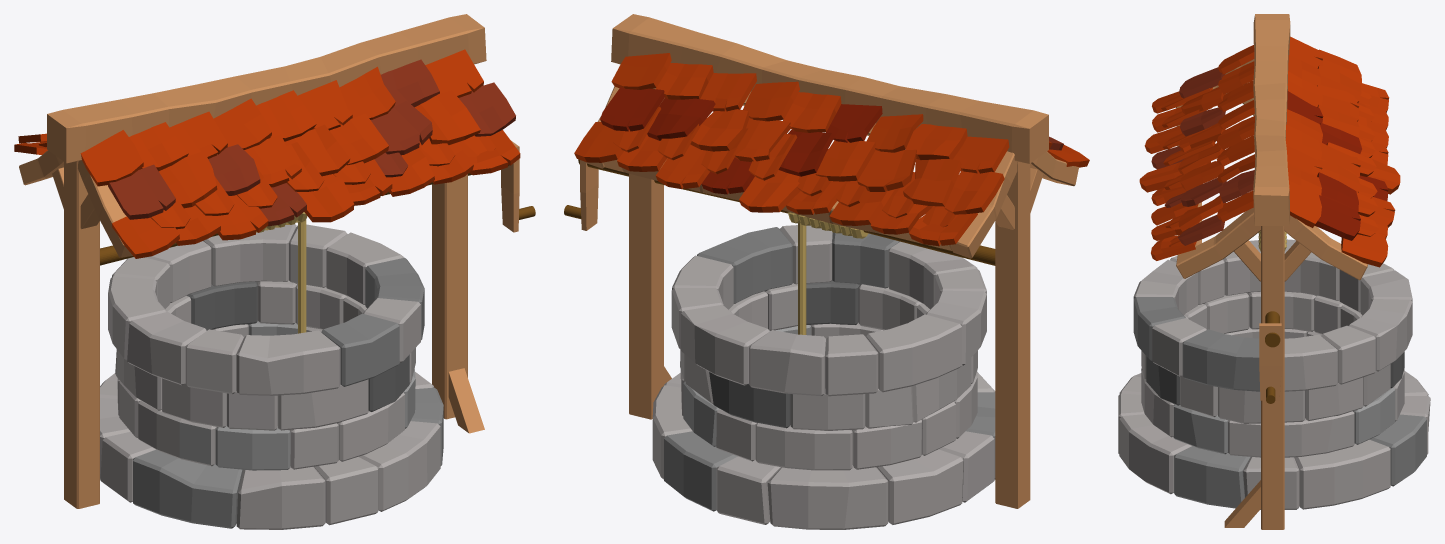
The model's file is well2.fbx.
3 views of the same model, side by side, from view 1: azimuth 30°, elevation 25°; view 2: azimuth 150°, elevation 25°; view 3: azimuth 270°, elevation 25° (orthographic). The views are drawn at different scales.
Parts seen in each view (by area): view 1: Cylinder.001; view 2: Cylinder.001; view 3: Cylinder.001.
Boxes of the visible parts, box(x1,y1,x2,y2) form: Cylinder.001: box(14, 14, 535, 529); Cylinder.001: box(564, 14, 1089, 529); Cylinder.001: box(1118, 14, 1430, 529).
Bounding box in the file's own units: 2078 × 1621 × 1341.
